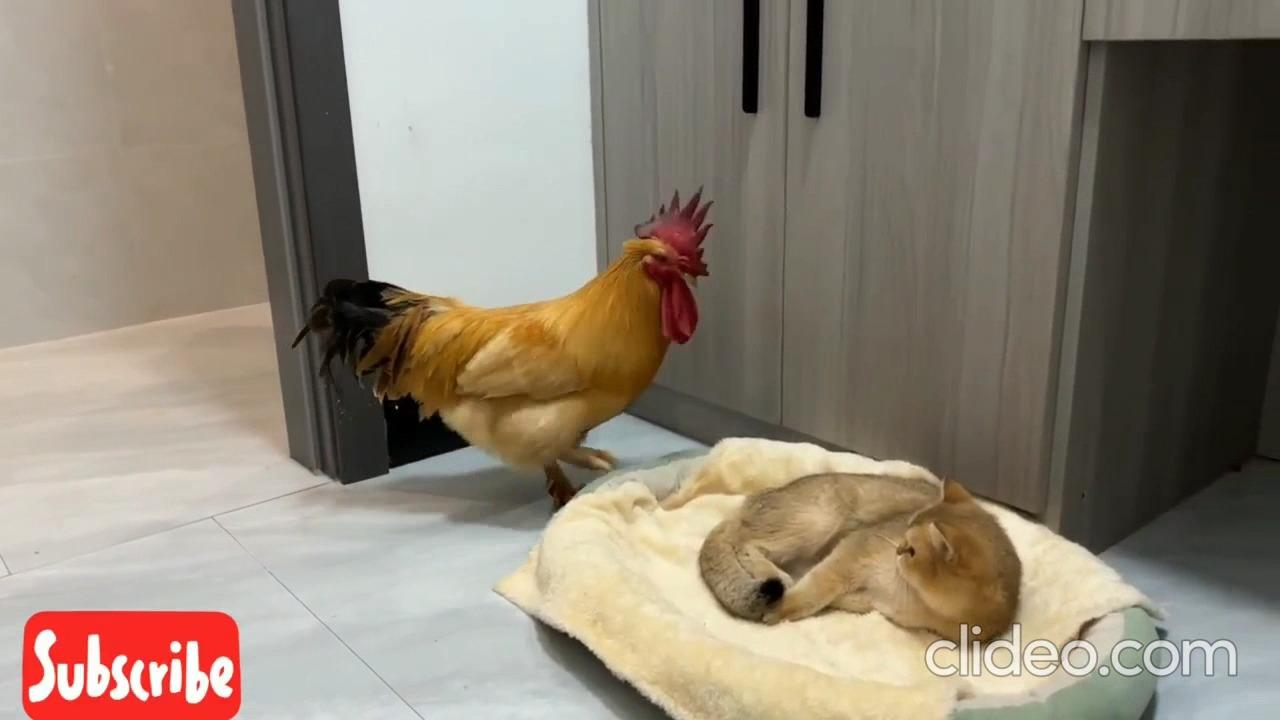Normal: (306, 187, 714, 434)
